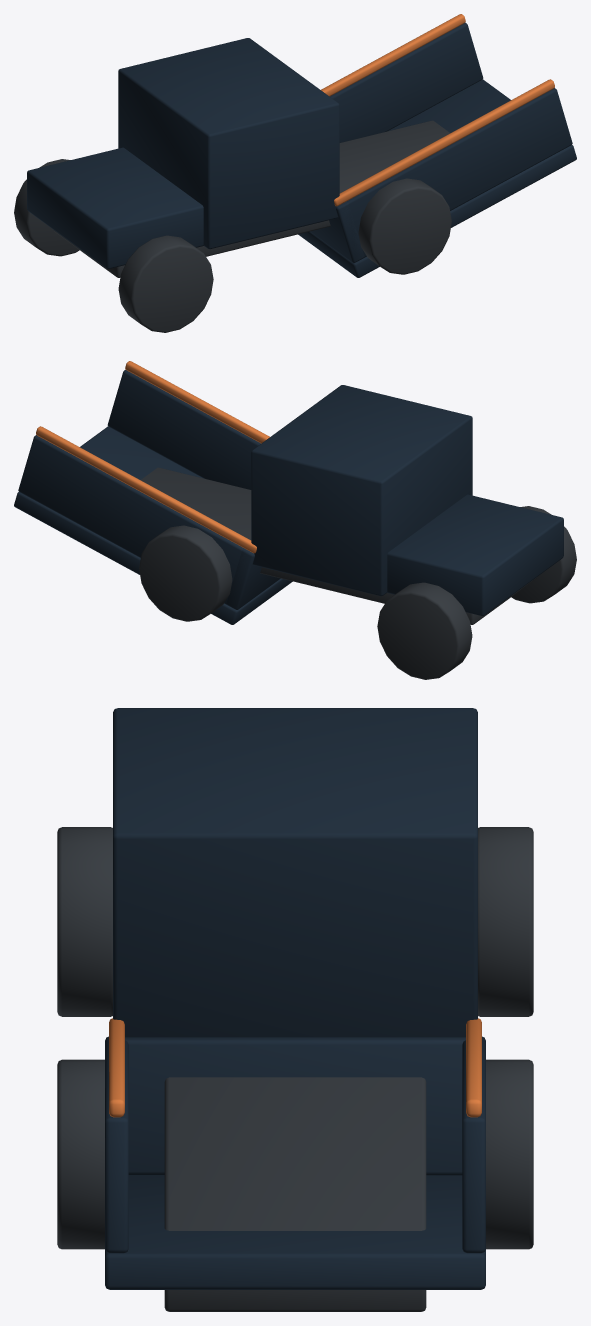
3 renders of one model, top to bottom at view 1: azimuth 30°, elevation 25°; view 2: azimuth 150°, elevation 25°; view 3: azimuth 270°, elevation 25°, orthographic. The views are drawn at different scales.
Visible parts, largest first — view 1: HerosTruckMark; view 2: HerosTruckMark; view 3: HerosTruckMark.
Boxes of the visible parts, x1,y1,x2,y2 form: HerosTruckMark: (14, 14, 576, 332); HerosTruckMark: (14, 361, 576, 679); HerosTruckMark: (57, 708, 533, 1311).
Bounding box in the file's own units: 2.72 × 1 × 1.21.
